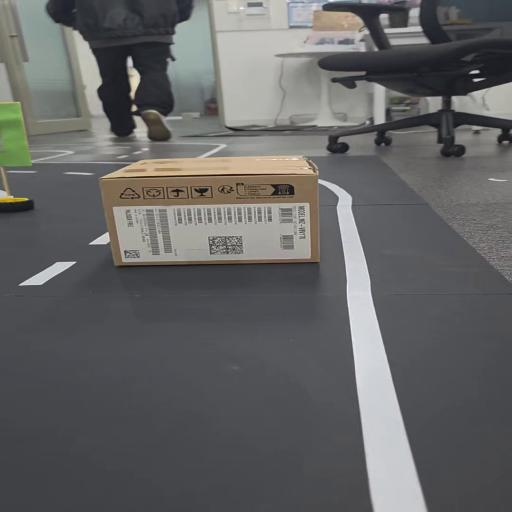Box: (97, 152, 333, 270)
